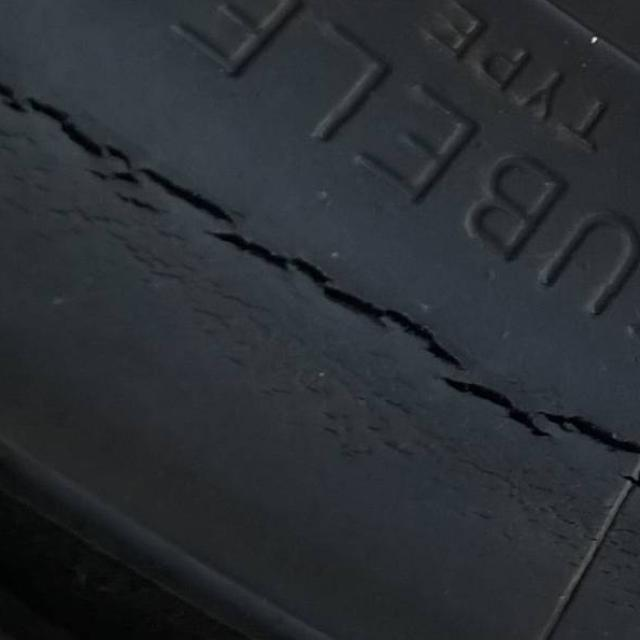Cracks: (1, 71, 640, 509)
